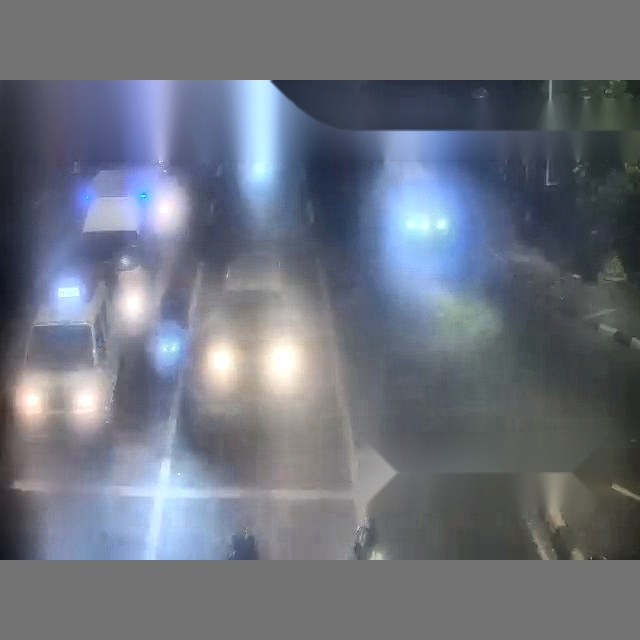Bis: (192, 130, 640, 558)
